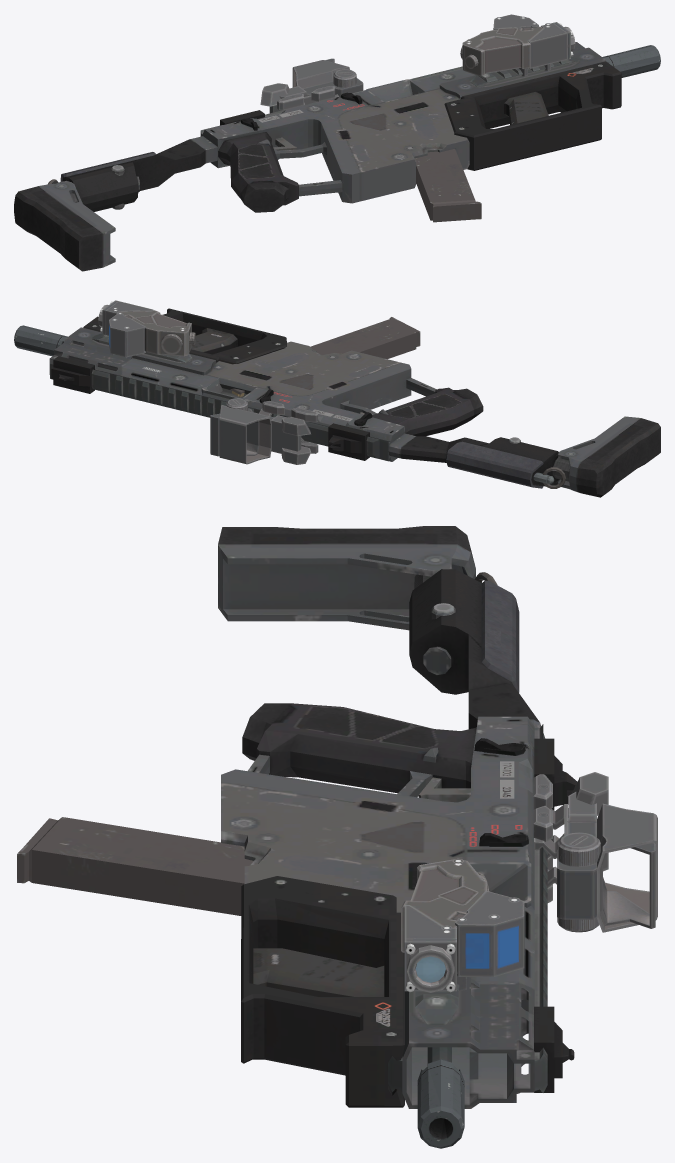
3 renders of one model, top to bottom at view 1: azimuth 30°, elevation 25°; view 2: azimuth 150°, elevation 25°; view 3: azimuth 270°, elevation 25°, orthographic. The views are drawn at different scales.
Parts seen in each view (by area): view 1: wp01a_a001a_sm.mo, wp01a_attach001a_sm.mo, wp01a_magazine001a_sm.mo, wp01a_scope001a_sm.mo, wp01a_muzzle001a_sm.mo; view 2: wp01a_a001a_sm.mo, wp01a_scope001a_sm.mo, wp01a_attach001a_sm.mo, wp01a_magazine001a_sm.mo, wp01a_muzzle001a_sm.mo; view 3: wp01a_a001a_sm.mo, wp01a_magazine001a_sm.mo, wp01a_scope001a_sm.mo, wp01a_attach001a_sm.mo, wp01a_muzzle001a_sm.mo.
Part boxes in pixels (box(x1,y1,x2,y2)): wp01a_a001a_sm.mo: box(14, 42, 621, 271); wp01a_attach001a_sm.mo: box(460, 14, 575, 76); wp01a_magazine001a_sm.mo: box(415, 149, 481, 222); wp01a_scope001a_sm.mo: box(260, 58, 363, 113); wp01a_muzzle001a_sm.mo: box(602, 45, 660, 77); wp01a_a001a_sm.mo: box(49, 308, 660, 497); wp01a_scope001a_sm.mo: box(210, 398, 318, 464); wp01a_attach001a_sm.mo: box(98, 300, 195, 357); wp01a_magazine001a_sm.mo: box(230, 317, 420, 397); wp01a_muzzle001a_sm.mo: box(14, 325, 67, 356); wp01a_a001a_sm.mo: box(218, 526, 577, 1108); wp01a_magazine001a_sm.mo: box(17, 817, 253, 915); wp01a_scope001a_sm.mo: box(533, 772, 657, 932); wp01a_attach001a_sm.mo: box(401, 858, 524, 992); wp01a_muzzle001a_sm.mo: box(417, 1059, 464, 1148).
Size of the model in its own units: 0.6021 by 0.0735 by 0.2841.
Materials: 6 (6 with a texture image).
